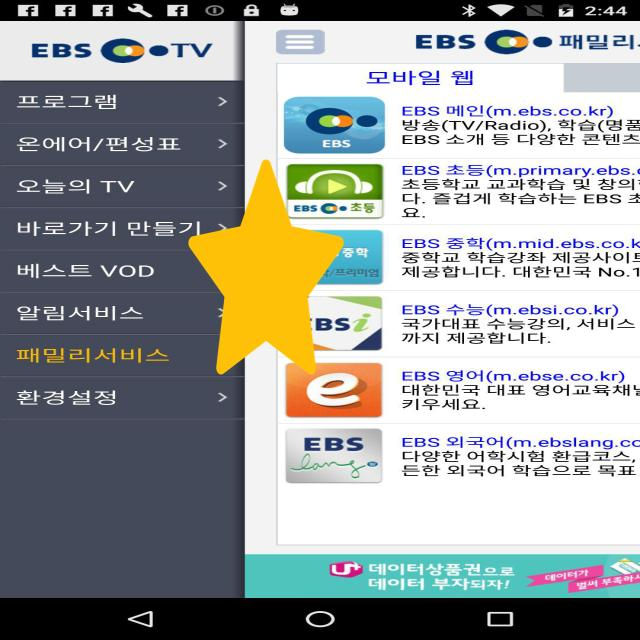forced continuity: (188, 159, 344, 375)
